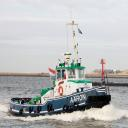tugboat: (8, 53, 114, 122)
